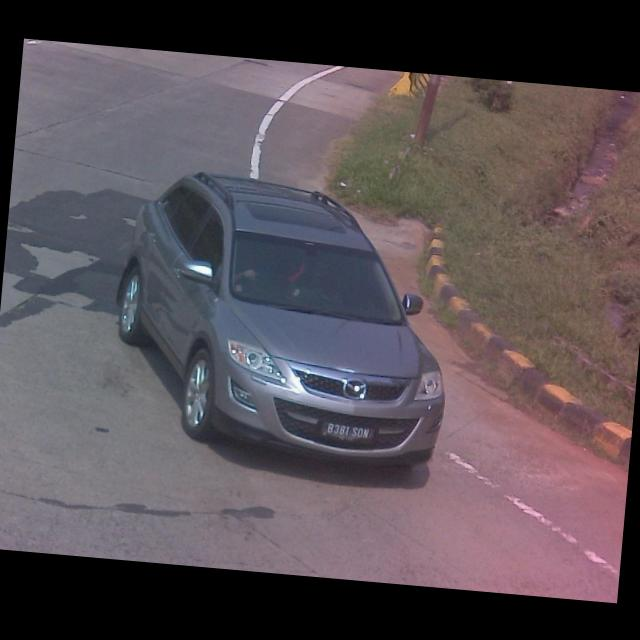plate: (321, 417, 378, 445)
